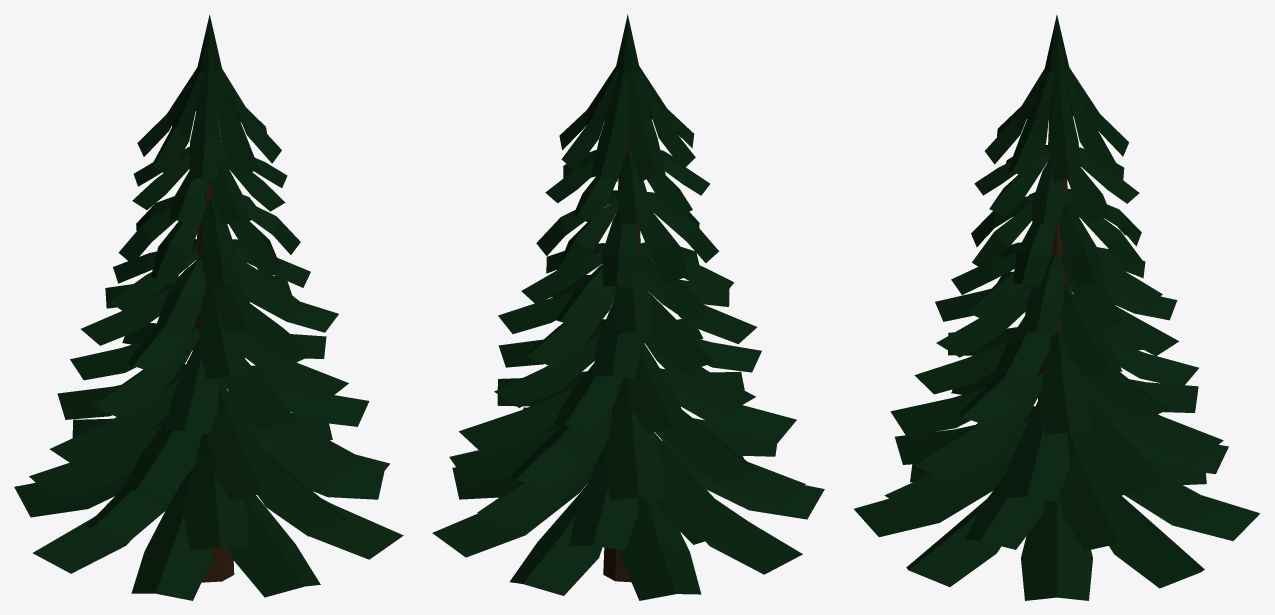
File: TREE.fbx
3 views of the same model, side by side, from view 1: azimuth 30°, elevation 25°; view 2: azimuth 150°, elevation 25°; view 3: azimuth 270°, elevation 25° (orthographic).
Visible parts, largest first — view 1: Fir-tree; view 2: Fir-tree; view 3: Fir-tree.
Boxes of the visible parts, x1,y1,x2,y2 form: Fir-tree: [14, 15, 403, 600]; Fir-tree: [432, 14, 824, 600]; Fir-tree: [854, 15, 1259, 600].
Size of the model in its own units: 6435 by 9747 by 6433.
